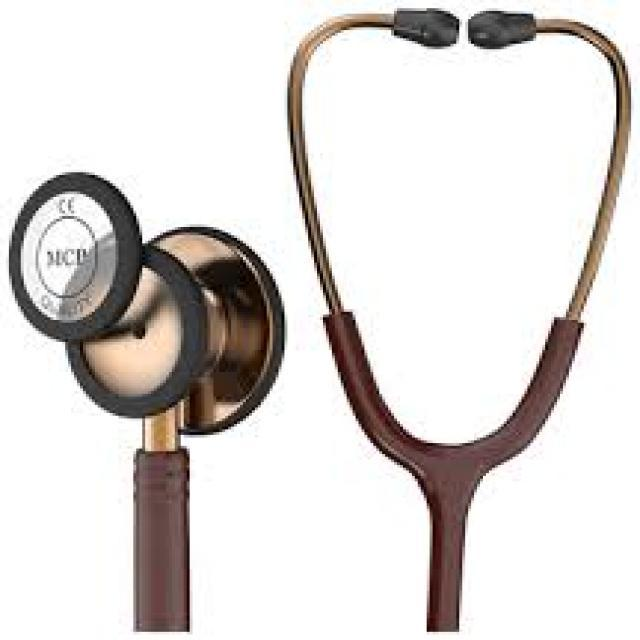stethoscope: (33, 19, 594, 598)
